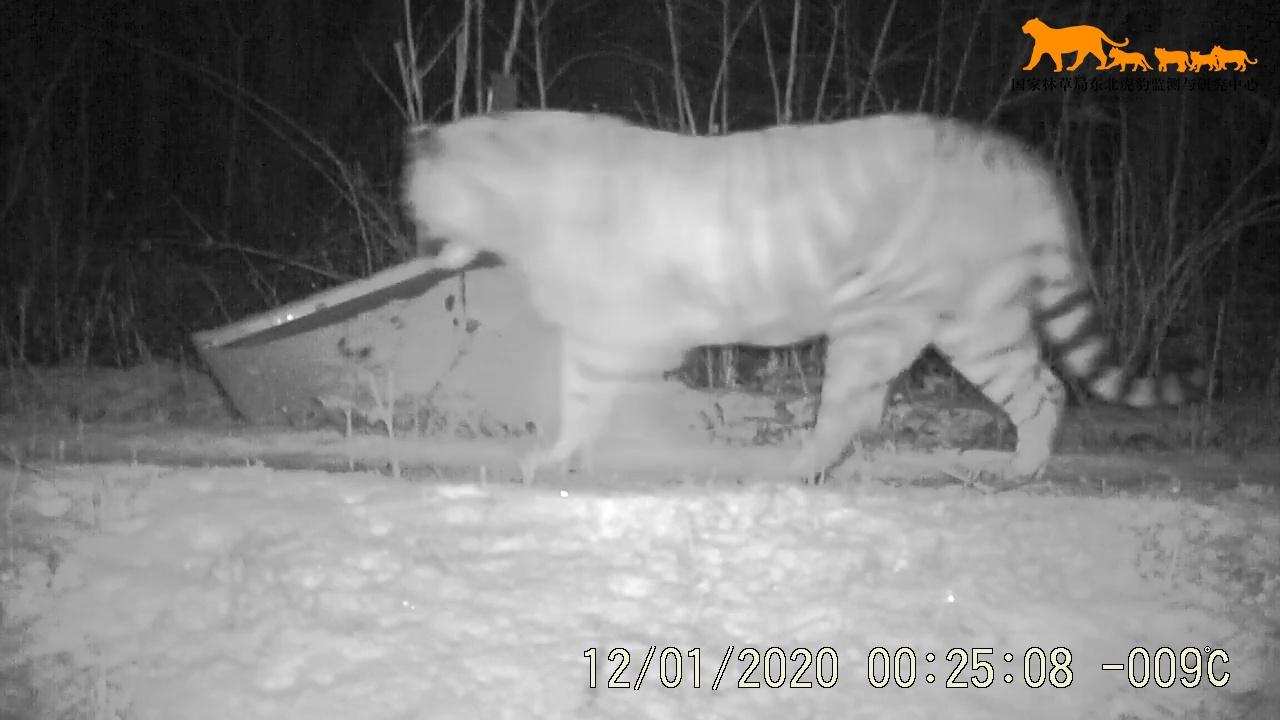Tiger: (345, 95, 1240, 519)
